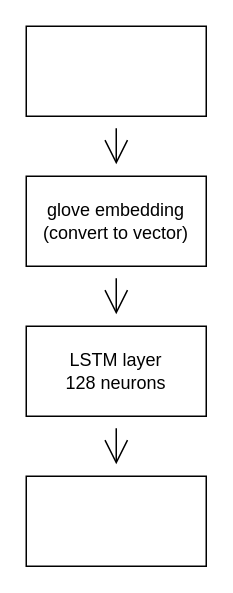
The diagram is 233 pixels wide and 593 high, and some of its shapes have lost their labels. The shapes that lost their labels are listed below. From the top down, each one's box as (x1, y1, x2, y2) in pixels, then its label:
(25, 25, 206, 116): raw text
(25, 475, 206, 566): Dense layer (6 outputs)
